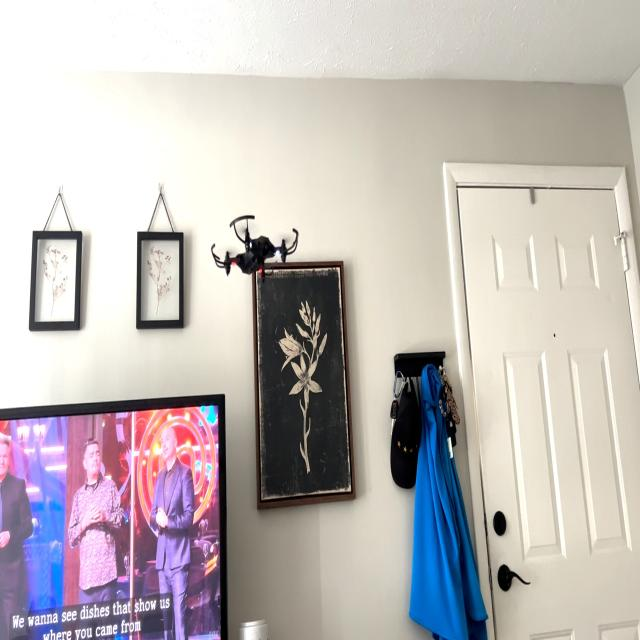drone: (205, 199, 304, 293)
